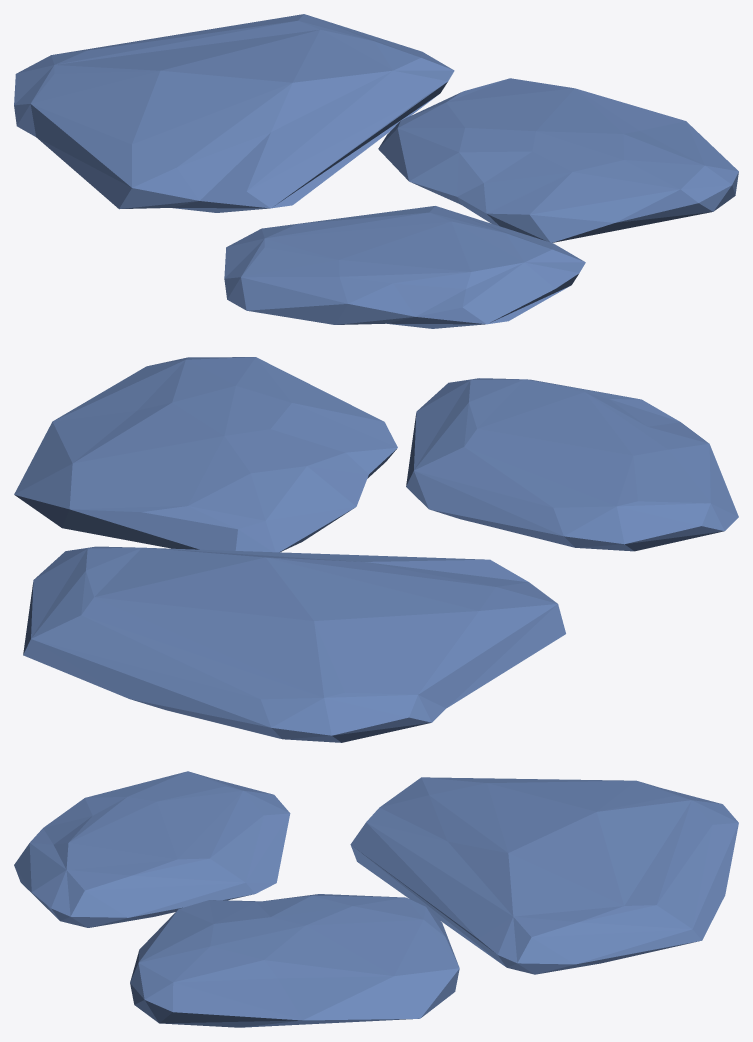
Rendered from Steinweg_.glb.
3 views of the same model, one above another, from view 1: azimuth 30°, elevation 25°; view 2: azimuth 150°, elevation 25°; view 3: azimuth 270°, elevation 25° (orthographic). The views are drawn at different scales.
Parts seen in each view (by area): view 1: Stein 1.001, Stein 3, Stein 1; view 2: Stein 1.001, Stein 3, Stein 1; view 3: Stein 1.001, Stein 3, Stein 1.
Boxes of the visible parts, x1=… form: Stein 1.001: x1=14, y1=14, x2=454, y2=212; Stein 3: x1=378, y1=78, x2=738, y2=242; Stein 1: x1=224, y1=206, x2=585, y2=328; Stein 1.001: x1=23, y1=546, x2=565, y2=742; Stein 3: x1=14, y1=357, x2=397, y2=552; Stein 1: x1=406, y1=378, x2=738, y2=551; Stein 1.001: x1=350, y1=777, x2=738, y2=974; Stein 3: x1=130, y1=894, x2=459, y2=1027; Stein 1: x1=14, y1=771, x2=290, y2=927.
Size of the model in its own units: 0.6835 by 0.0632 by 0.8522.
